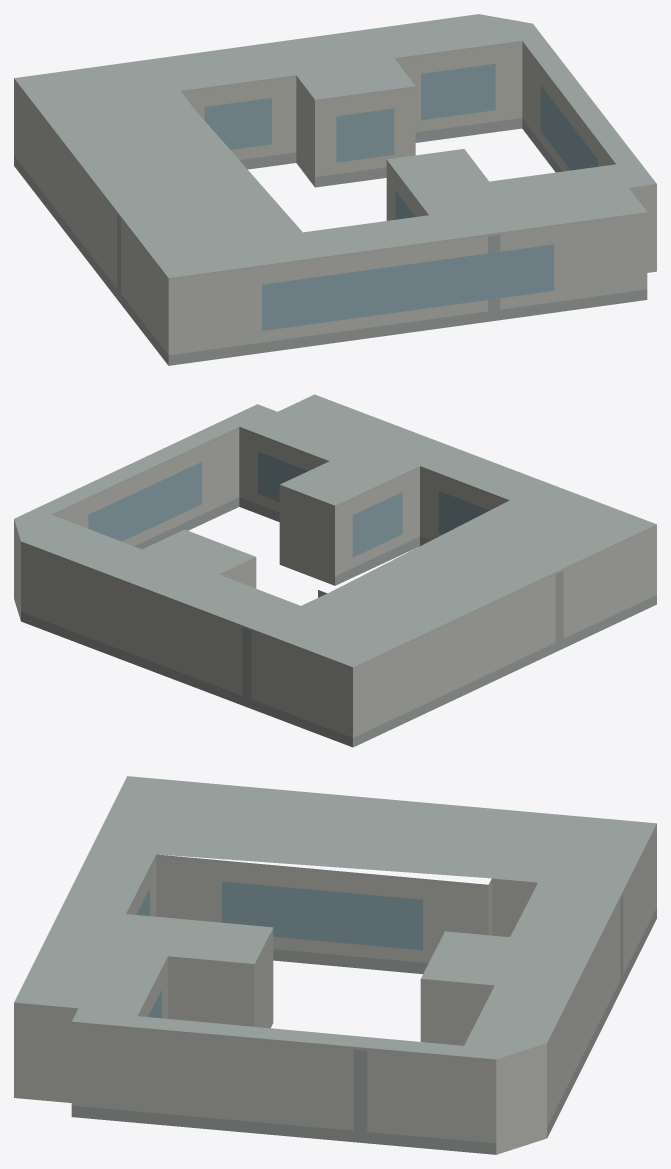
Rendered from residential-e36c9eb3-359c-4287-9700-17c4ae5b1729.glb.
3 renders of one model, top to bottom at view 1: azimuth 30°, elevation 25°; view 2: azimuth 150°, elevation 25°; view 3: azimuth 270°, elevation 25°, orthographic. The views are drawn at different scales.
Visible parts, largest first — view 1: residential-e36c9eb3-359c-4287-9700-17c4ae5b1729.tmp; view 2: residential-e36c9eb3-359c-4287-9700-17c4ae5b1729.tmp; view 3: residential-e36c9eb3-359c-4287-9700-17c4ae5b1729.tmp.
Part boxes in pixels (box(x1,y1,x2,y2)): residential-e36c9eb3-359c-4287-9700-17c4ae5b1729.tmp: box(14, 14, 656, 365); residential-e36c9eb3-359c-4287-9700-17c4ae5b1729.tmp: box(14, 394, 656, 747); residential-e36c9eb3-359c-4287-9700-17c4ae5b1729.tmp: box(14, 776, 656, 1154).
Size of the model in its own units: 57.33 by 9 by 54.97.
